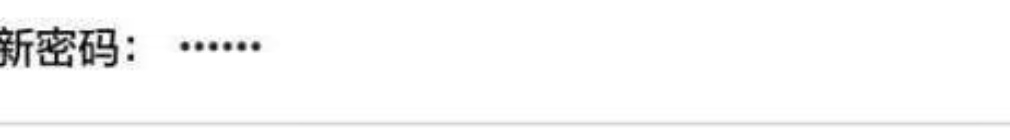EditText: (1, 1, 1009, 139)
